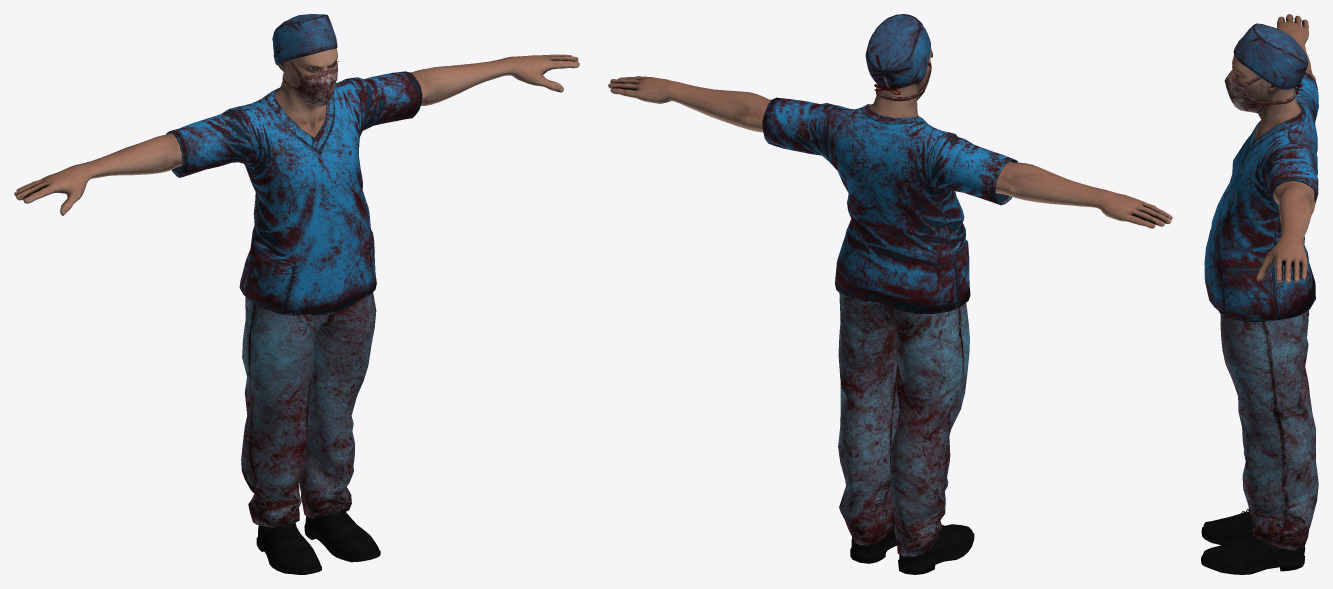
File: SUP_doctor_horror_hospital.glb
3 views of the same model, side by side, from view 1: azimuth 30°, elevation 25°; view 2: azimuth 150°, elevation 25°; view 3: azimuth 270°, elevation 25° (orthographic).
Visible parts, largest first — view 1: SUP_doctor_horror_hospital; view 2: SUP_doctor_horror_hospital; view 3: SUP_doctor_horror_hospital.
Part boxes in pixels (x1=…): SUP_doctor_horror_hospital: x1=14, y1=14, x2=579, y2=574; SUP_doctor_horror_hospital: x1=608, y1=14, x2=1172, y2=574; SUP_doctor_horror_hospital: x1=1201, y1=14, x2=1318, y2=574.
Size of the model in its own units: 195 by 178 by 36.17.
6 materials, 6 textured.
